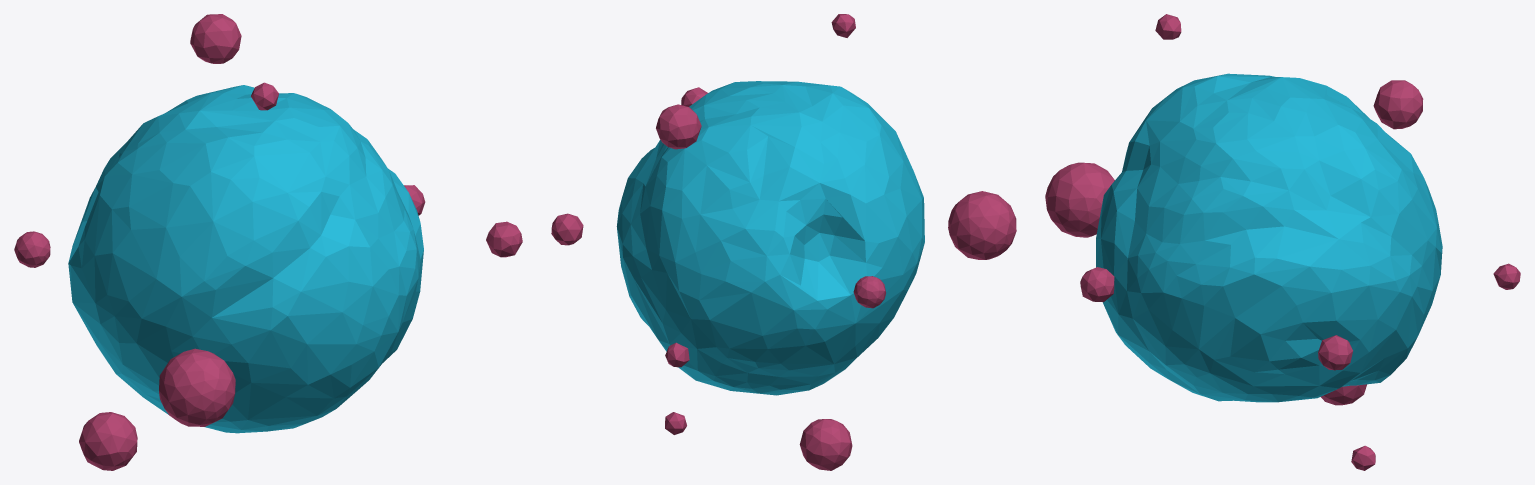
The model's file is SM_PlanetA.fbx.
3 views of the same model, side by side, from view 1: azimuth 30°, elevation 25°; view 2: azimuth 150°, elevation 25°; view 3: azimuth 270°, elevation 25° (orthographic). The views are drawn at different scales.
Visible parts, largest first — view 1: PlanetA; view 2: PlanetA; view 3: PlanetA.
Boxes of the visible parts, bbox=[...] form: PlanetA: bbox=[14, 14, 522, 470]; PlanetA: bbox=[551, 14, 1016, 470]; PlanetA: bbox=[1045, 14, 1520, 470].
Size of the model in its own units: 2.5 by 2.65 by 2.72.
1 material, 1 textured.
